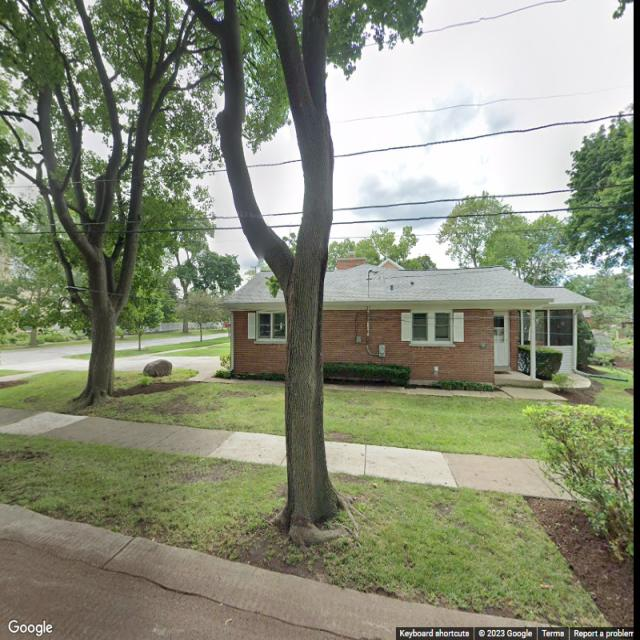House: (219, 250, 597, 390)
